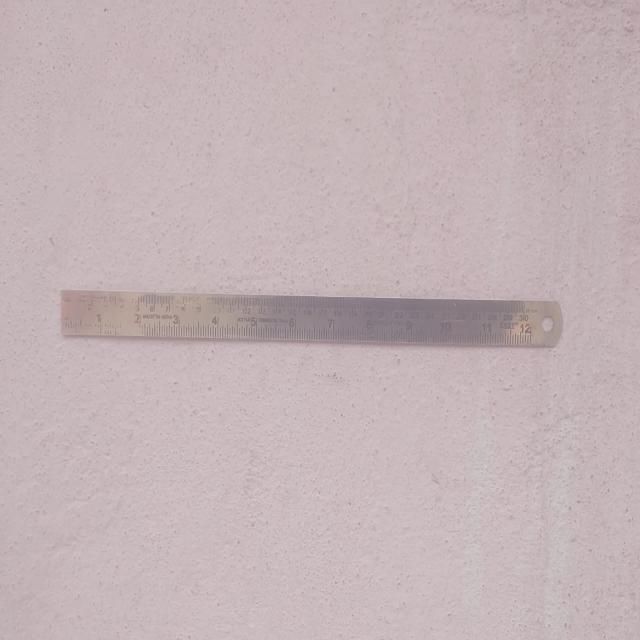scale: (64, 298, 563, 346)
